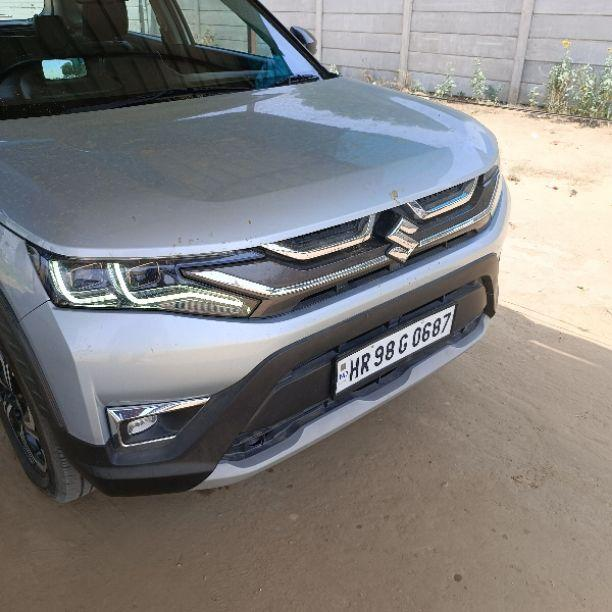license_plate: (330, 301, 456, 400)
